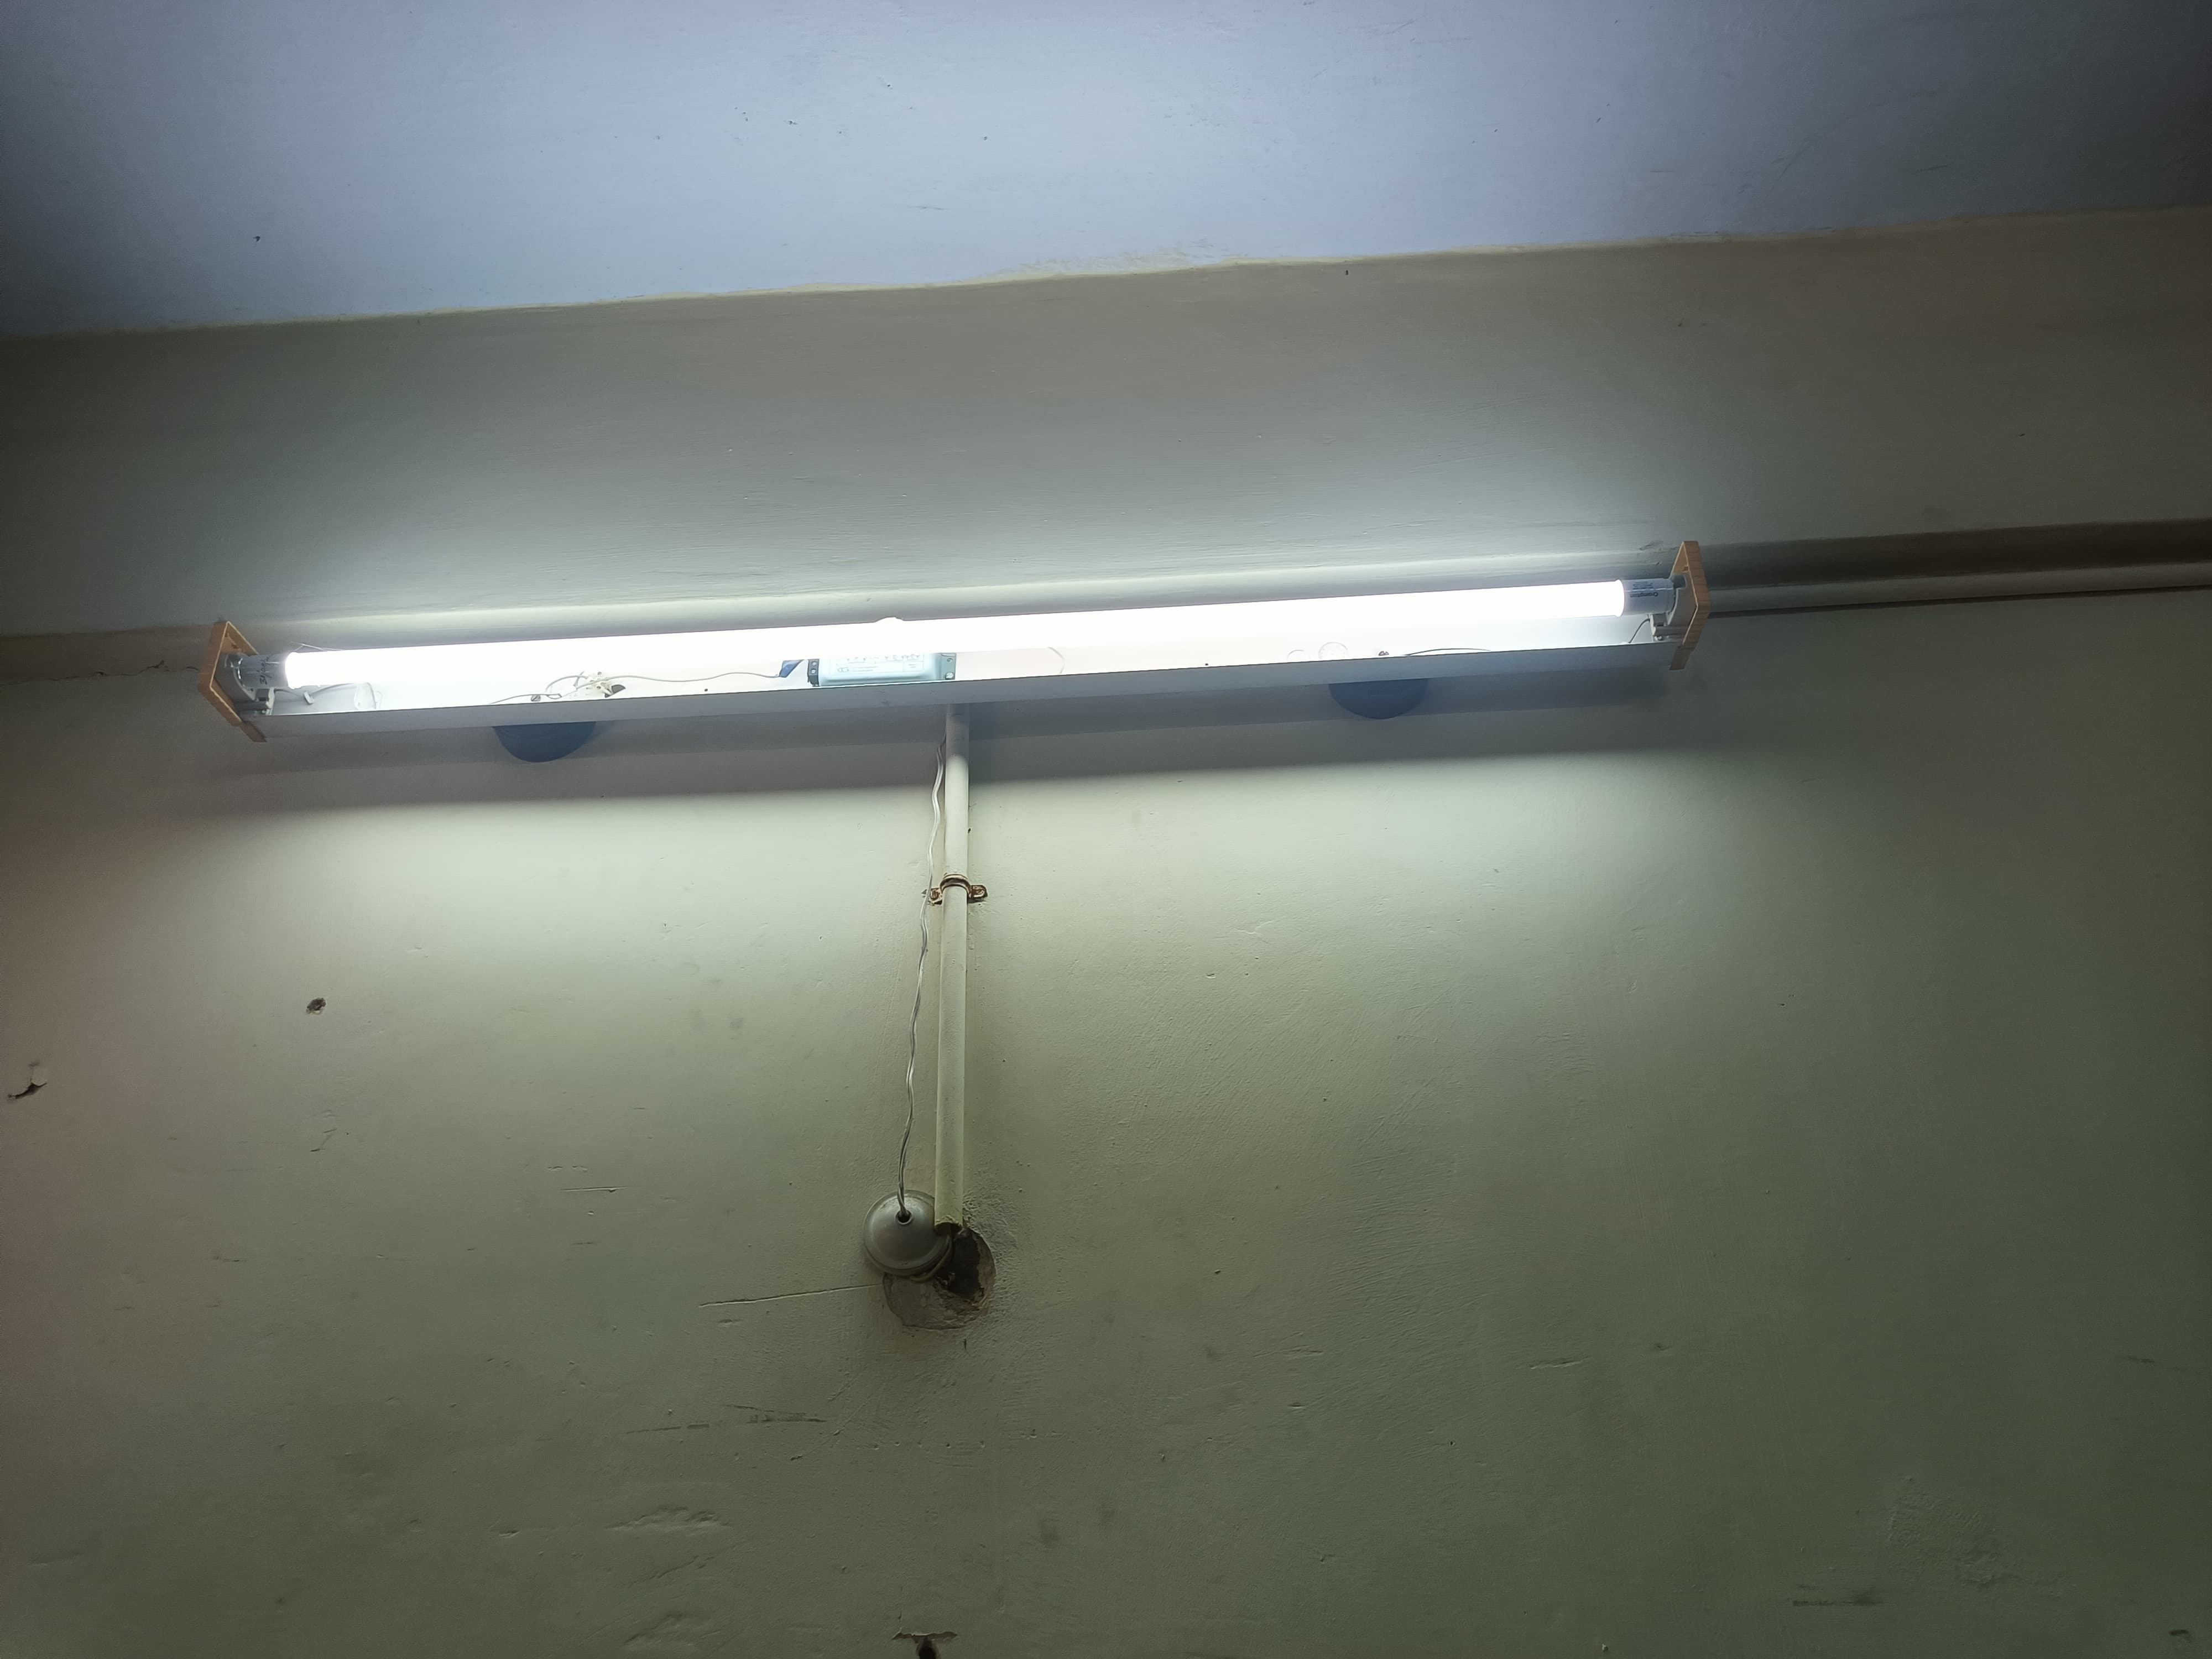TubeLight: (192, 540, 1719, 777)
